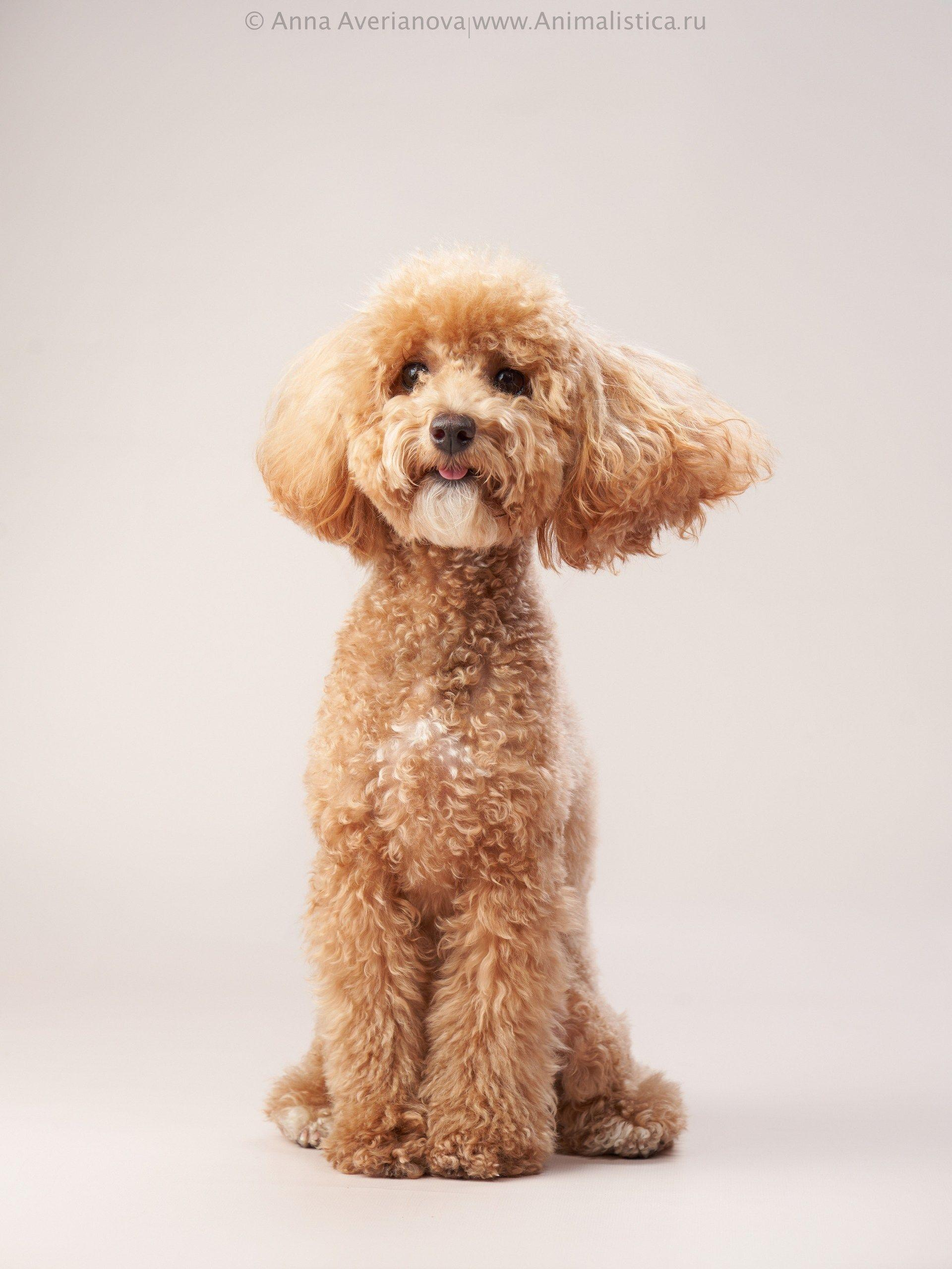adult_dog: (249, 242, 778, 1187)
